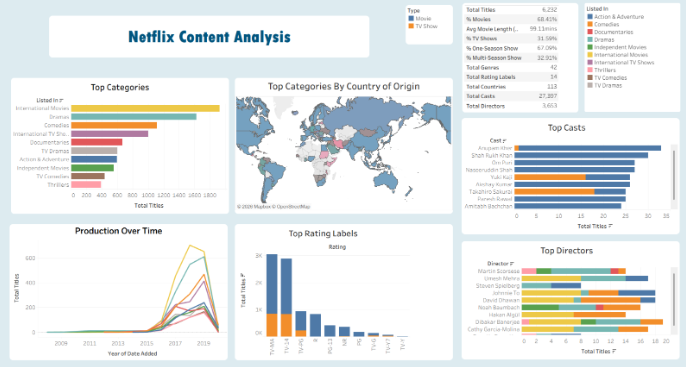

The page's visual inventory and layout, read from the dashboard file:
{"tool":"tableau","page":{"name":"Dashboard ","canvas":[1000,1000],"units":"permille","ordinal":0},"visuals":[{"type":"worksheet","title":"KPI","mark":"Automatic","box":[669.9,20,166.6,289.1]},{"type":"legend","title":"Top 10 Categories","param":"[federated.1qj0ln109pgjx516ve1h71h5bd84].[none:listed_in:nk]","box":[845.5,20,137.6,287.9]},{"type":"text","box":[20.5,27,178.6,161]},{"type":"legend","title":"rating","param":"[federated.1qj0ln109pgjx516ve1h71h5bd84].[none:type:nk]","box":[578.8,27,83.3,95.2]},{"type":"text","box":[204.6,28.2,100.8,48.2]},{"type":"text","box":[292.7,28.2,155.1,48.2]},{"type":"text","box":[429.1,28.2,155.1,48.2]},{"type":"worksheet","title":"Highest Category","mark":"Automatic","box":[291.5,78.7,127.3,65.8]},{"type":"worksheet","title":"Lowest Category","mark":"Automatic","box":[429.1,78.7,126.7,91.7]},{"type":"worksheet","title":"Total Titles","mark":"Automatic","box":[209.4,90.5,61,54.1]},{"type":"worksheet","title":"Top 10 Categories","mark":"Automatic","rows":["listed_in"],"cols":["Calculation_1344478942588928"],"box":[21.7,217.4,313.2,359.6]},{"type":"worksheet","title":"Country of origin","mark":"Multipolygon","box":[343.4,217.4,313.2,359.6]},{"type":"worksheet","title":"Top 10 Casts","mark":"Automatic","rows":["cast"],"cols":["Calculation_1344478942588928"],"box":[668.7,324.3,313.2,306.7]},{"type":"worksheet","title":"Production over time","mark":"Automatic","rows":["Calculation_1344478942588928"],"cols":["date_added"],"box":[19.9,604,313.2,359.6]},{"type":"worksheet","title":"rating","mark":"Automatic","rows":["Calculation_1344478942588928"],"cols":["rating"],"box":[343.4,604,313.2,359.6]},{"type":"worksheet","title":"director","mark":"Automatic","rows":["director"],"cols":["Calculation_1344478942588928"],"box":[668.7,648.6,313.2,312.6]}]}

Visuals, with their boxes on the dashboard's canvas, which has no fixed pixel size, in thousandths of its width and height (x1, y1, x2, y2). These are canvas units, not pixel positions in the 686x367 screenshot, which may show the page scaled, cropped or inside an application window:
"KPI" worksheet: rect(670, 20, 836, 309)
"Top 10 Categories" legend: rect(846, 20, 983, 308)
text: rect(20, 27, 199, 188)
"rating" legend: rect(579, 27, 662, 122)
text: rect(205, 28, 305, 76)
text: rect(293, 28, 448, 76)
text: rect(429, 28, 584, 76)
"Highest Category" worksheet: rect(292, 79, 419, 144)
"Lowest Category" worksheet: rect(429, 79, 556, 170)
"Total Titles" worksheet: rect(209, 90, 270, 145)
"Top 10 Categories" worksheet: rect(22, 217, 335, 577)
"Country of origin" worksheet (Multipolygon marks): rect(343, 217, 657, 577)
"Top 10 Casts" worksheet: rect(669, 324, 982, 631)
"Production over time" worksheet: rect(20, 604, 333, 964)
"rating" worksheet: rect(343, 604, 657, 964)
"director" worksheet: rect(669, 649, 982, 961)
